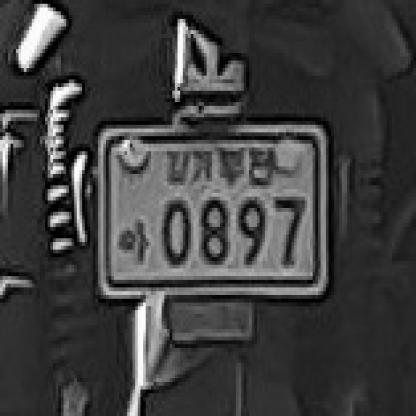bnum: (96, 123, 334, 296)
